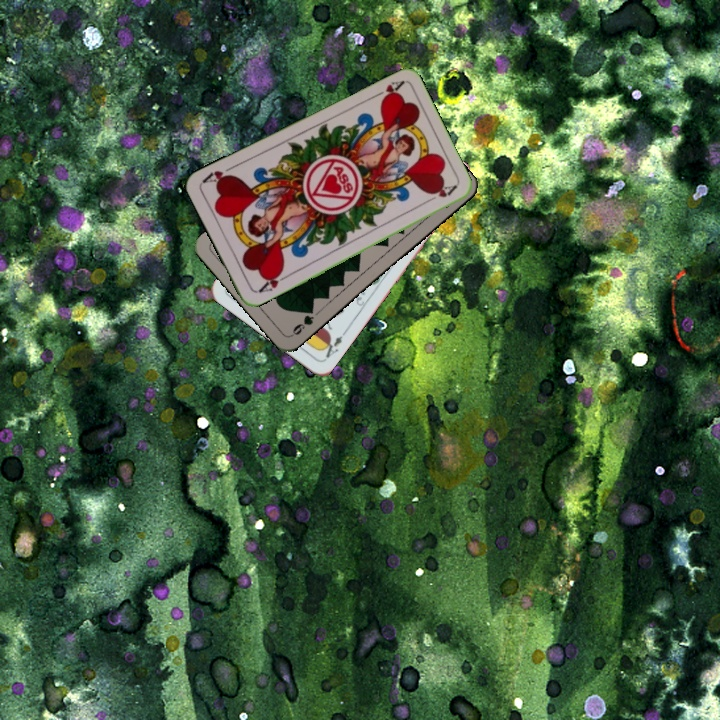EA: (318, 331, 345, 362)
G9: (287, 303, 317, 339)
HA: (367, 77, 406, 104), (254, 267, 291, 295)
